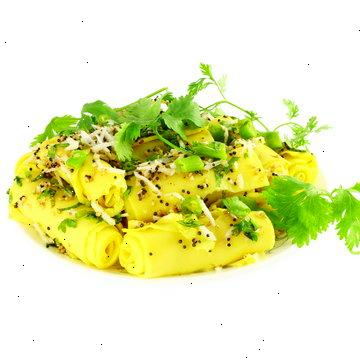khandvi: (12, 113, 322, 269)
